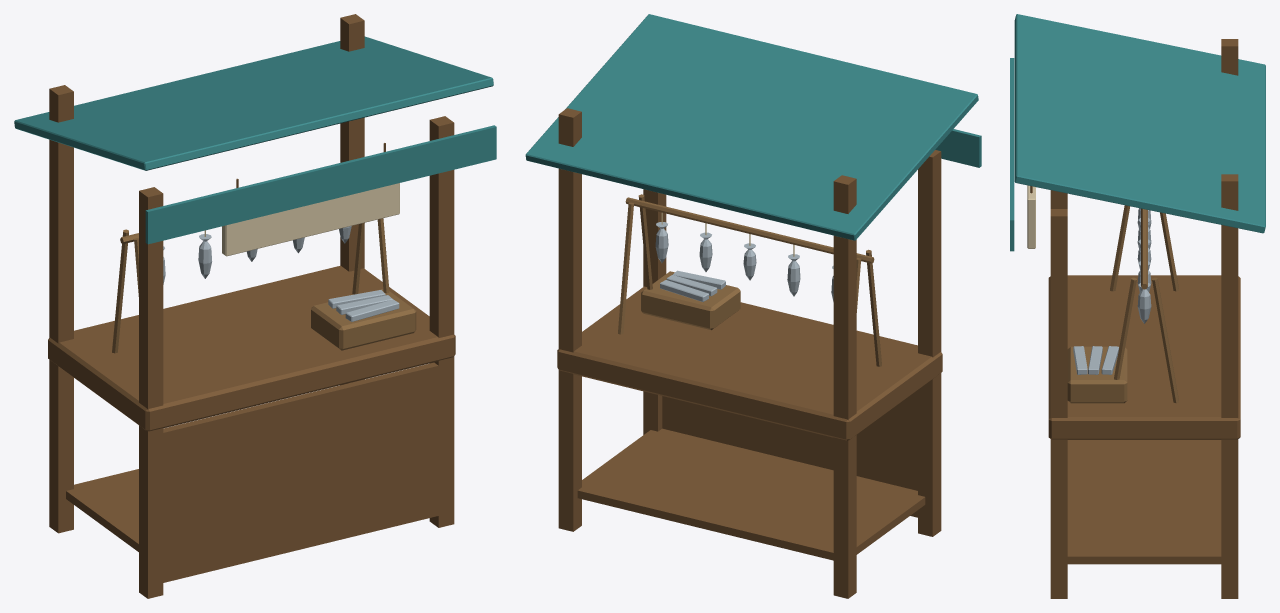
Rendered from Prop_YTM_Stall_Fish.glb.
3 views of the same model, side by side, from view 1: azimuth 30°, elevation 25°; view 2: azimuth 150°, elevation 25°; view 3: azimuth 270°, elevation 25° (orthographic). The views are drawn at different scales.
Parts seen in each view (by area): view 1: Prop_YTM_Stall_Fish, Prop_YTM_Stall_Fish_Goods; view 2: Prop_YTM_Stall_Fish, Prop_YTM_Stall_Fish_Goods; view 3: Prop_YTM_Stall_Fish, Prop_YTM_Stall_Fish_Goods.
Part boxes in pixels (x1,y1,x2,y2): Prop_YTM_Stall_Fish: (14, 14, 496, 598); Prop_YTM_Stall_Fish_Goods: (112, 218, 416, 353); Prop_YTM_Stall_Fish: (525, 14, 981, 598); Prop_YTM_Stall_Fish_Goods: (618, 194, 881, 366); Prop_YTM_Stall_Fish: (1010, 14, 1265, 598); Prop_YTM_Stall_Fish_Goods: (1067, 205, 1178, 403).
Size of what is drawn, in the model's own units: 1.8 by 2.24 by 1.2.
